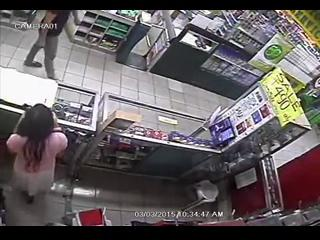Normal: (4, 104, 68, 226), (24, 10, 72, 81)
